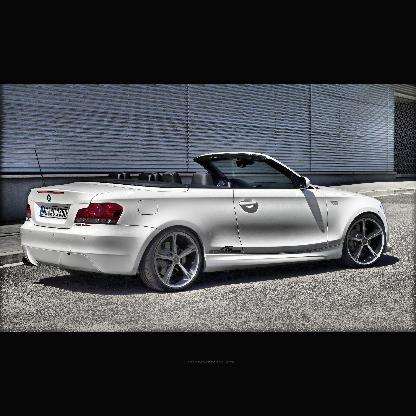BMW 1 Series Convertible 2012: (20, 152, 390, 297)
